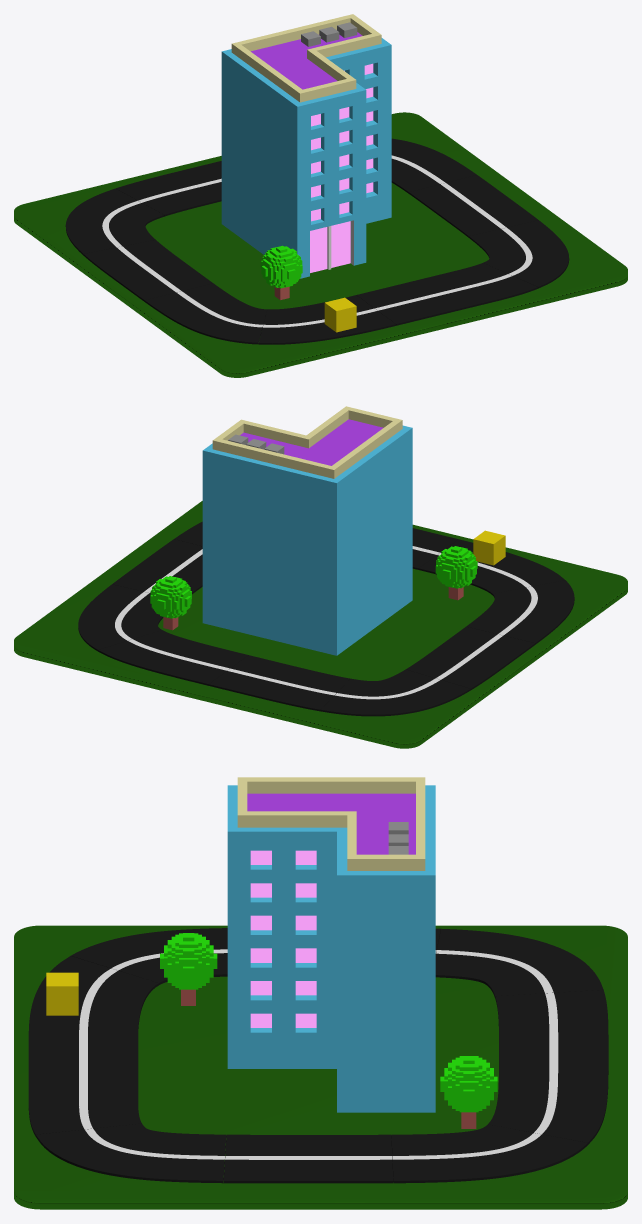
Rendered from building.glb.
The picture shows the model from 3 angles, top to bottom: view 1: azimuth 30°, elevation 25°; view 2: azimuth 150°, elevation 25°; view 3: azimuth 270°, elevation 25°; orthographic projection. The views are drawn at different scales.
Visible parts, largest first — view 1: Cube, 地面, 道路, 球, 立方体.004; view 2: Cube, 道路, 地面, 球, 球.002, 立方体.004; view 3: 道路, 地面, Cube, 球, 球.002, 立方体.004.
Boxes of the visible parts, x1,y1,x2,y2 form: Cube: (221,14,391,278); 地面: (14,112,627,377); 道路: (65,138,569,344); 球: (260,245,302,288); 立方体.004: (324,297,356,332); Cube: (202,406,412,655); 道路: (78,521,574,716); 地面: (14,501,627,748); 球: (435,546,477,588); 球.002: (150,576,191,618); 立方体.004: (473,530,505,565); 道路: (28,928,608,1183); 地面: (14,925,627,1209); Cube: (227,777,435,1112); 球: (160,933,217,989); 球.002: (440,1056,497,1112); 立方体.004: (46,972,78,1015).
Size of what is drawn, in the model's own units: 11.72 by 5.28 by 11.21.
